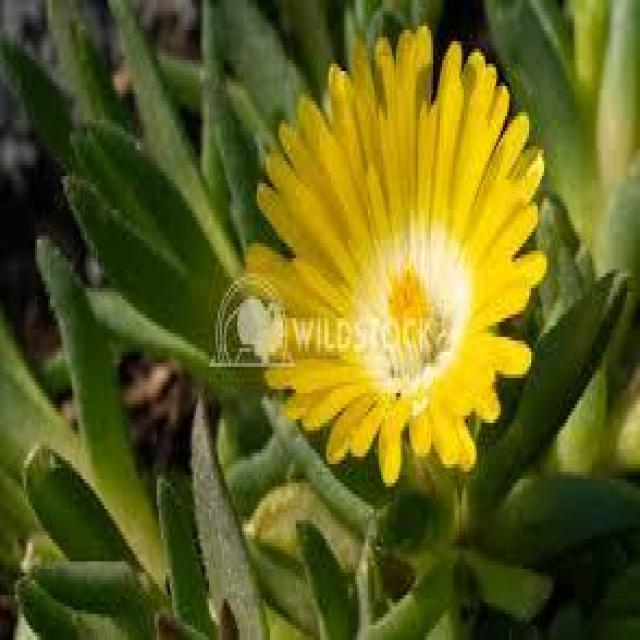organic waste: (222, 22, 551, 476)
